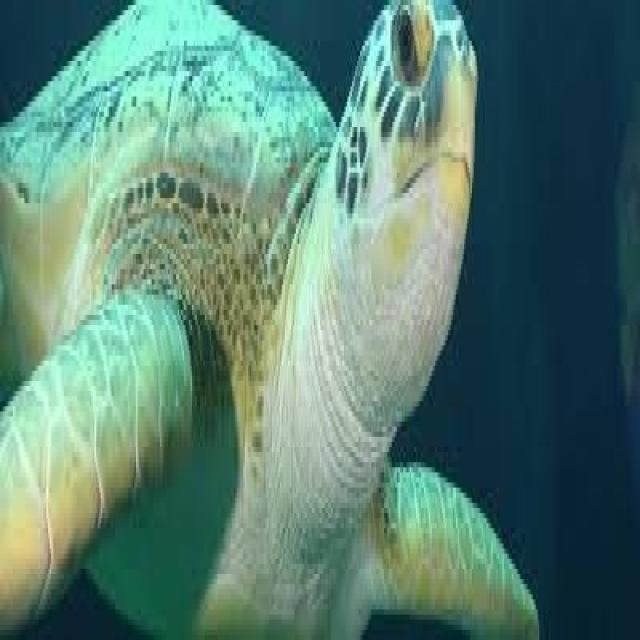turtle: (96, 0, 514, 640)
